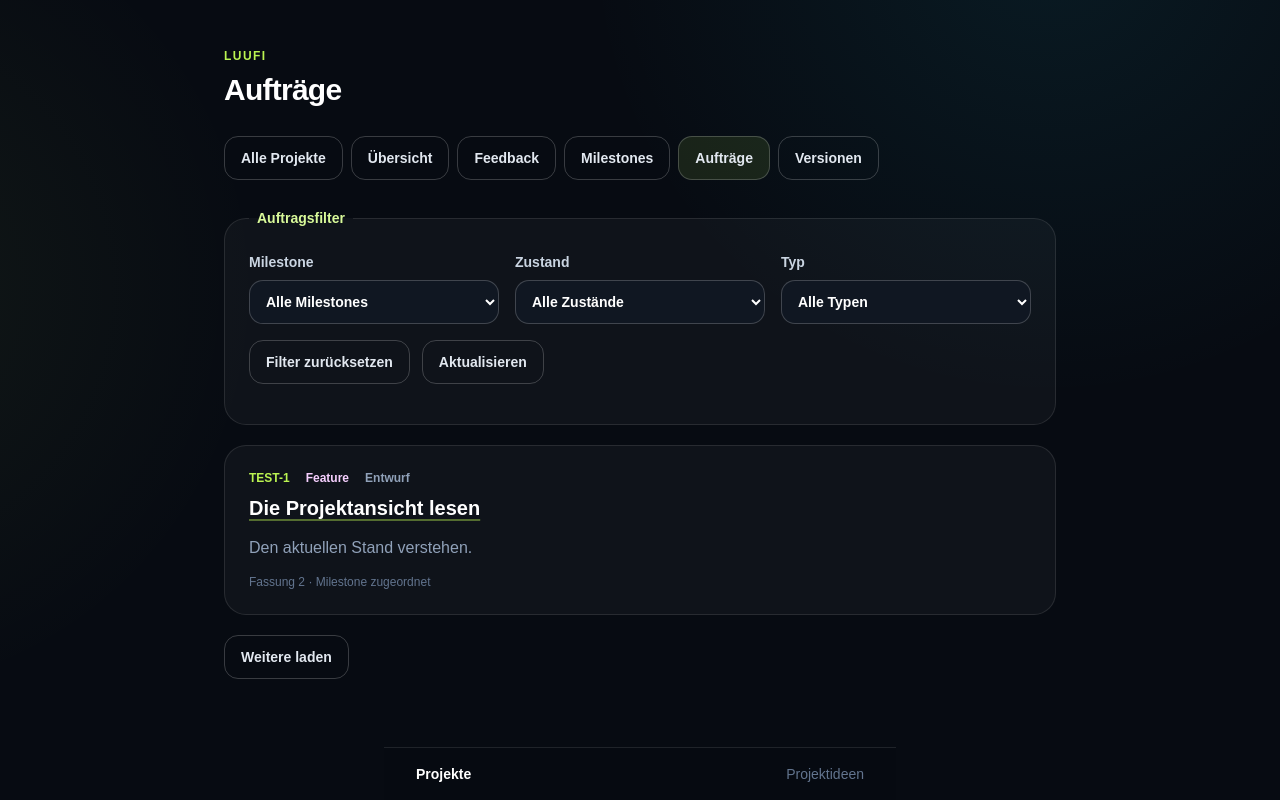
LUUFI-9 Aufträge und Spezifikationen lesen › verbirgt alte Ergebnisse sofort beim Filterwechsel und ignoriert eine verspätete Antwort
expect the link "Die Projektansicht lesen" is shown: met, box [249,497,480,519]
Select "Feature" in the dropdown labelled "Typ" at coordinates (906, 302), box [781,280,1031,324]
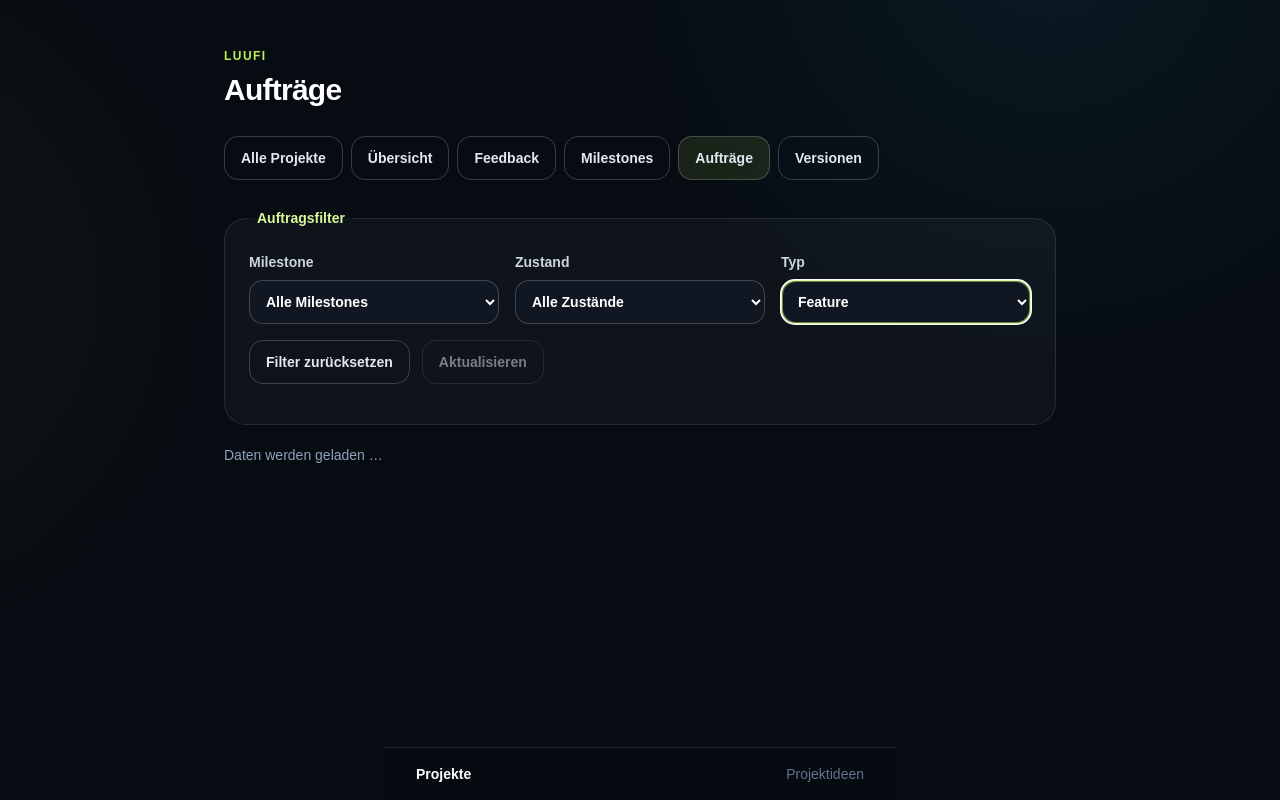
Select "Fehlerbehebung" in the dropdown labelled "Typ" at coordinates (906, 302), box [781,280,1031,324]
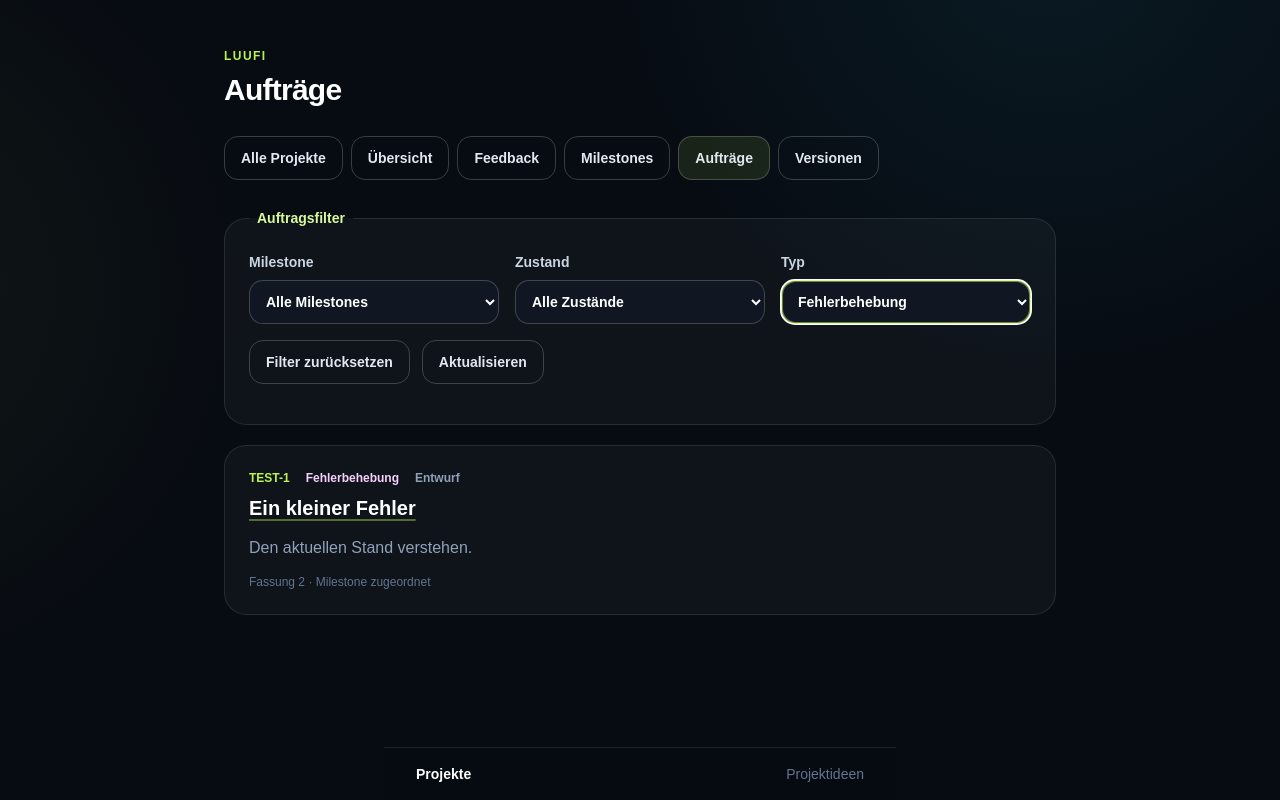
expect the link "Die Projektansicht lesen" is not shown: met
expect the link "Ein kleiner Fehler" is shown: met, box [249,497,416,519]
